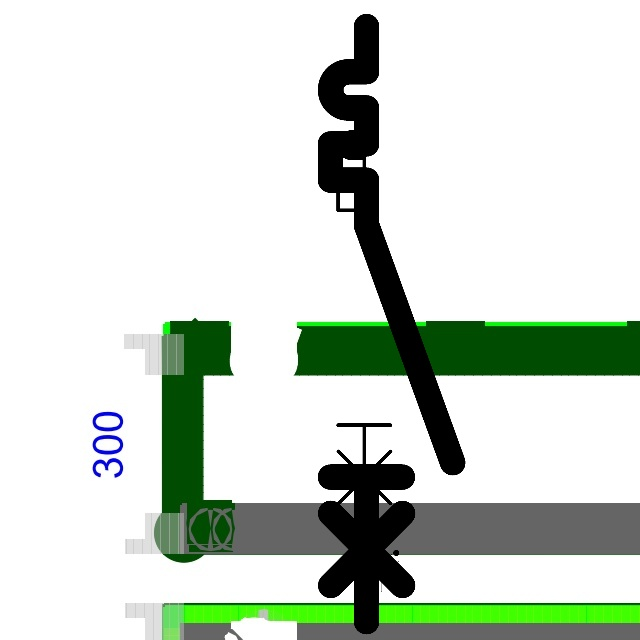interruptor_termomagnetico: (315, 11, 468, 637), (327, 88, 438, 541)
